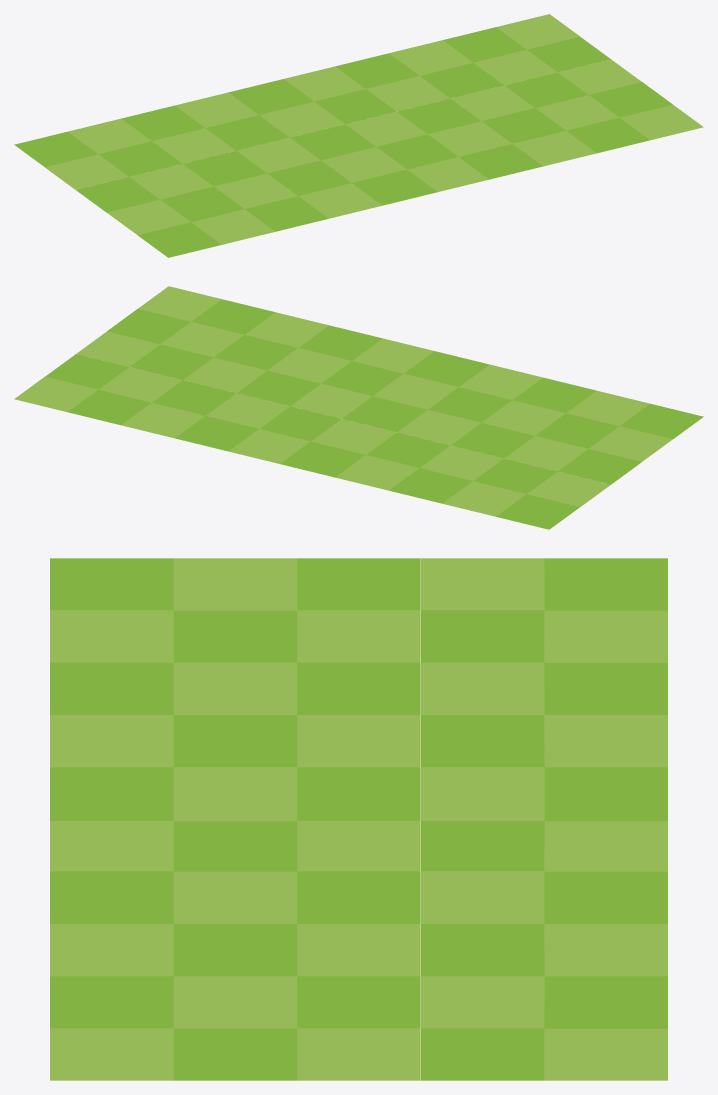
File: Grass5.fbx
3 views of the same model, one above another, from view 1: azimuth 30°, elevation 25°; view 2: azimuth 150°, elevation 25°; view 3: azimuth 270°, elevation 25° (orthographic). The views are drawn at different scales.
Visible parts, largest first — view 1: Plane.002; view 2: Plane.002; view 3: Plane.002.
Boxes of the visible parts, x1,y1,x2,y2 form: Plane.002: [14, 14, 703, 257]; Plane.002: [14, 286, 703, 529]; Plane.002: [50, 558, 667, 1080].
Bounding box in the file's own units: 10 × 4.89e-07 × 5.
